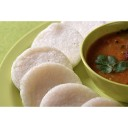idly: (20, 65, 80, 107), (34, 24, 81, 63)
